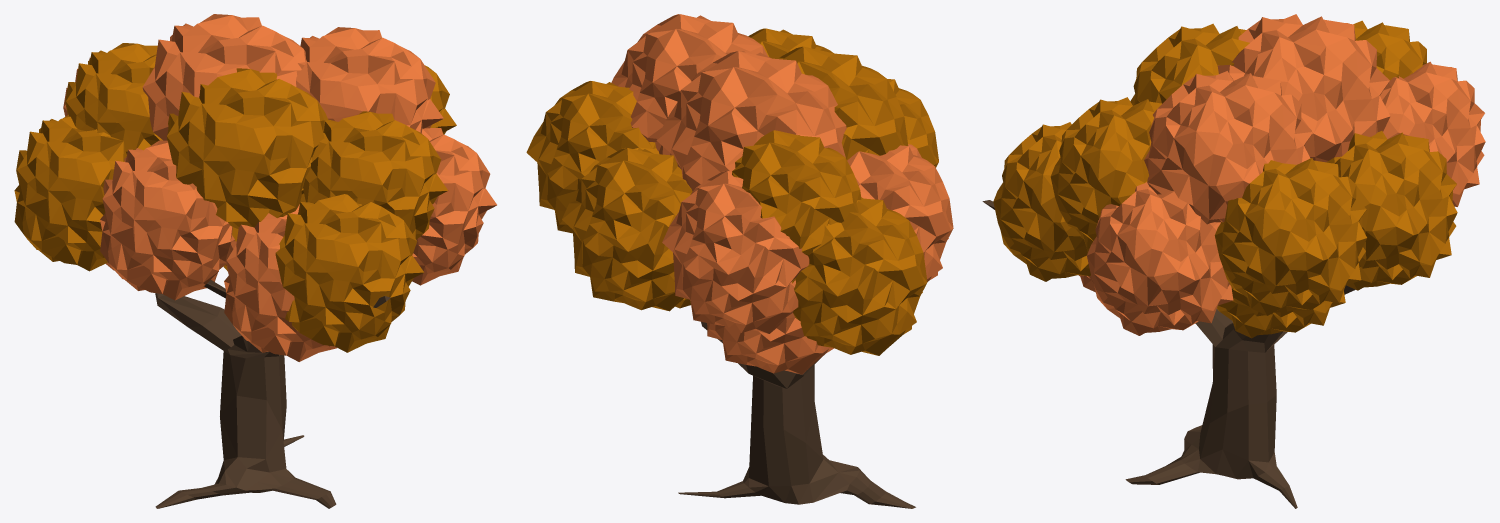
The model's file is fall tree 1.fbx.
The picture shows the model from 3 angles, left to right: view 1: azimuth 30°, elevation 25°; view 2: azimuth 150°, elevation 25°; view 3: azimuth 270°, elevation 25°; orthographic projection. The views are drawn at different scales.
Parts seen in each view (by area): view 1: LowPoly Tree .021; view 2: LowPoly Tree .021; view 3: LowPoly Tree .021.
Part boxes in pixels (x1,y1,x2,y2): LowPoly Tree .021: (14,14,496,508); LowPoly Tree .021: (526,14,953,508); LowPoly Tree .021: (982,14,1485,508).
Bounding box in the file's own units: 227 × 237 × 241.
